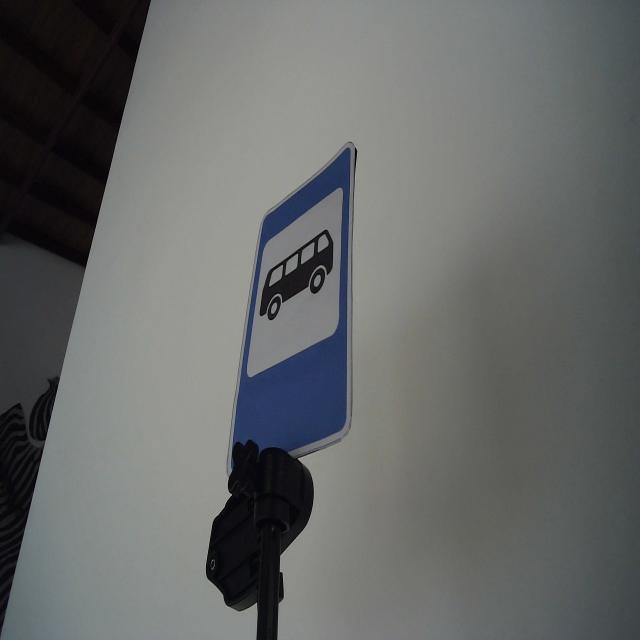bus_stop: (225, 144, 358, 482)
